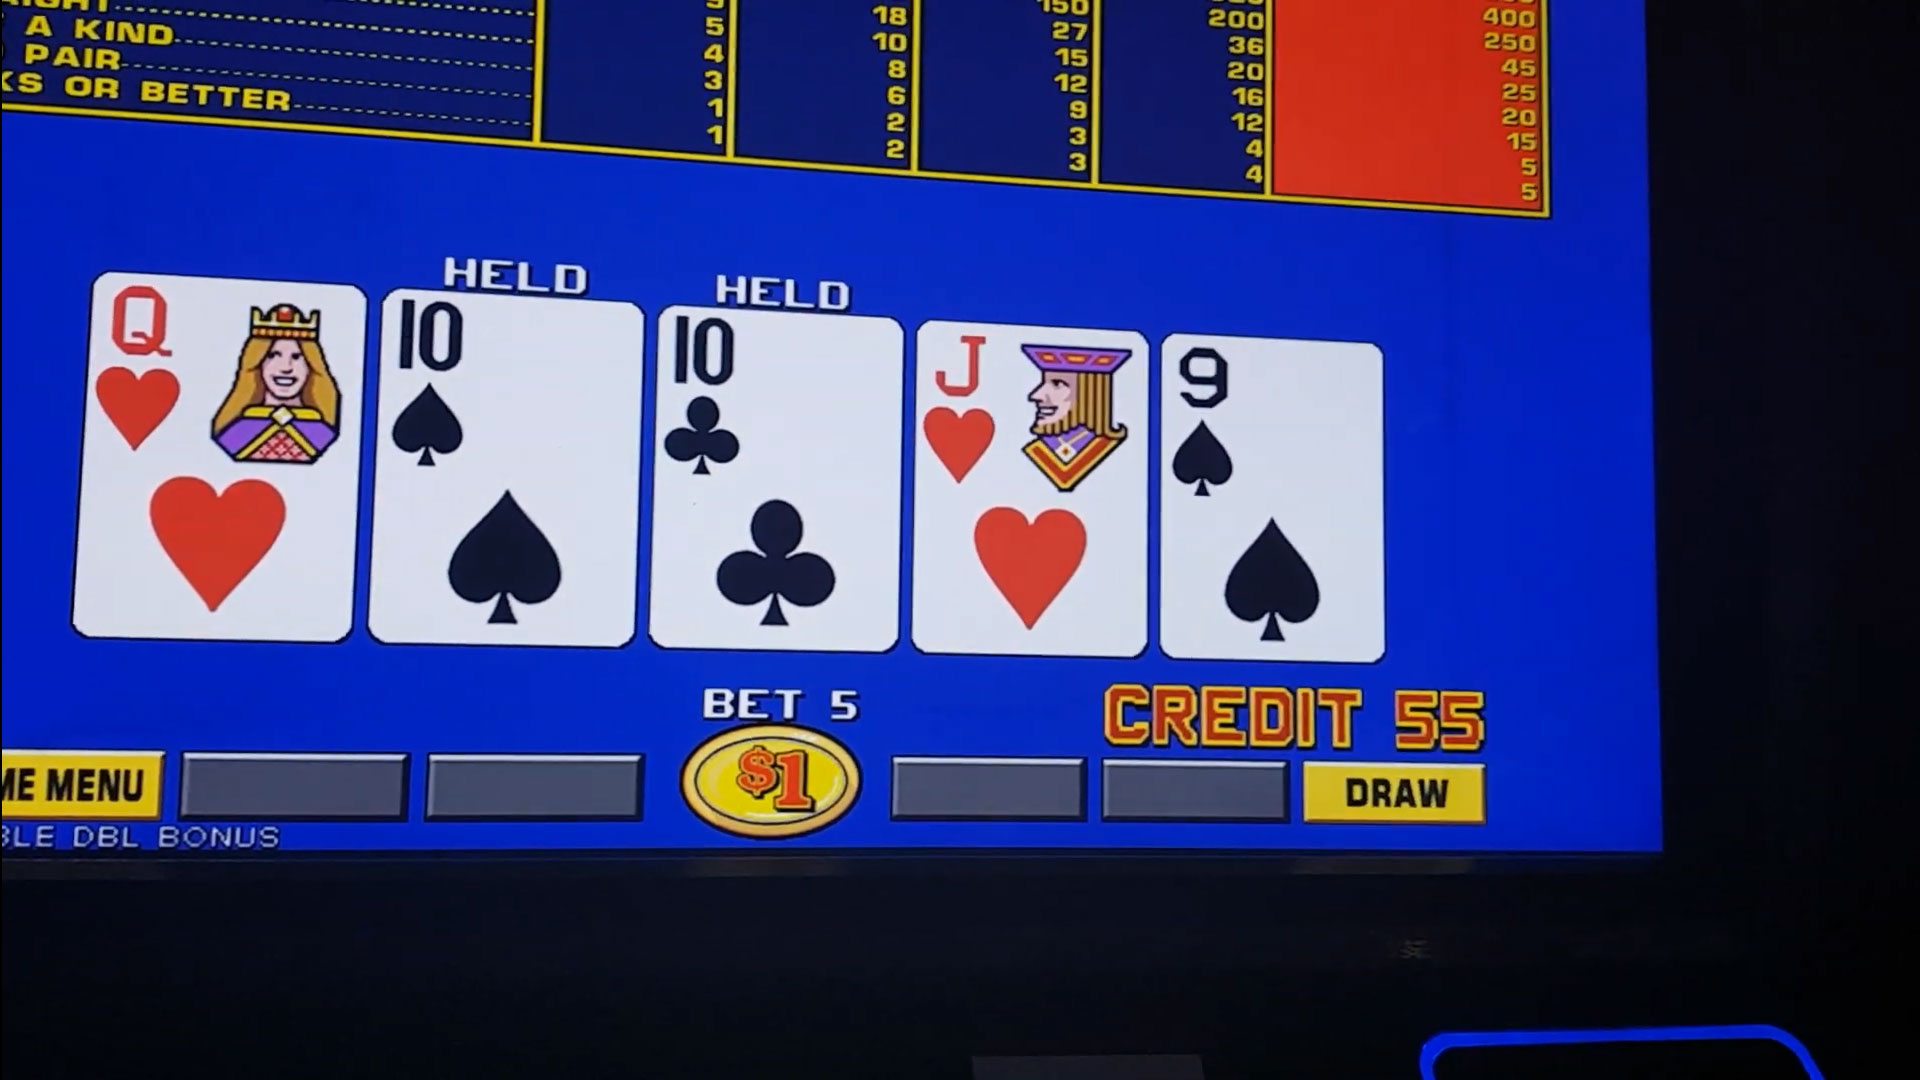CT: (663, 324, 895, 498)
HJ: (919, 338, 1143, 501)
HQ: (103, 293, 351, 467)
S9: (1162, 345, 1379, 505)
ST: (388, 305, 633, 484)
